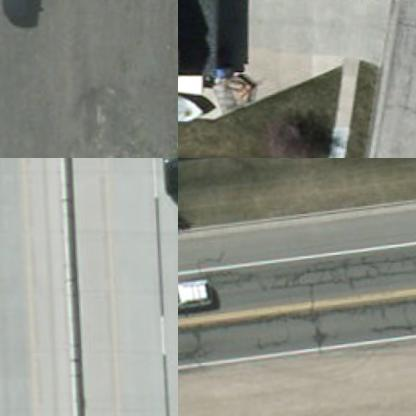boat: (178, 79, 208, 127)
car: (178, 276, 211, 316), (154, 158, 177, 199)
pickup: (0, 0, 31, 20)
